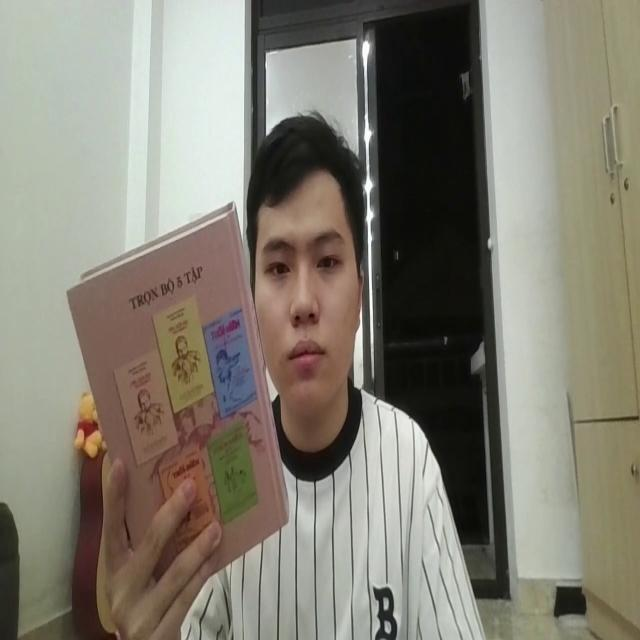book: (60, 196, 291, 571)
student: (181, 108, 480, 640)
